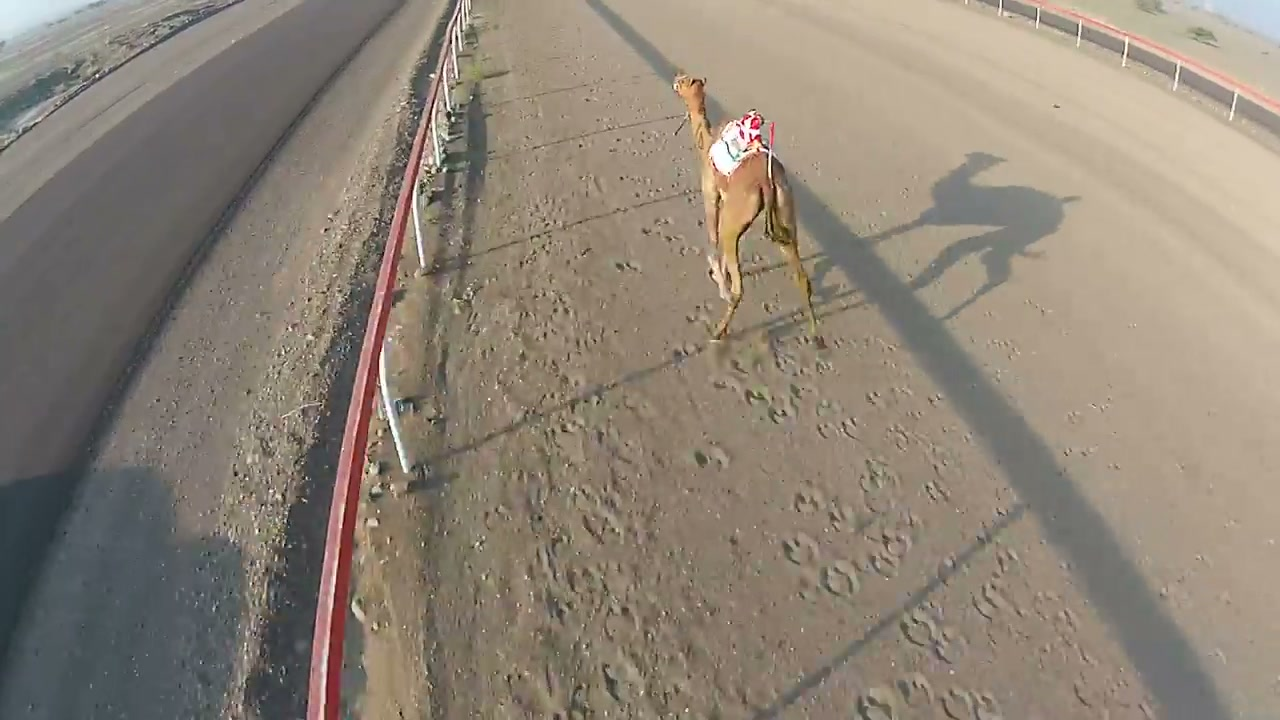animal_foot_print: (684, 337, 1030, 719)
